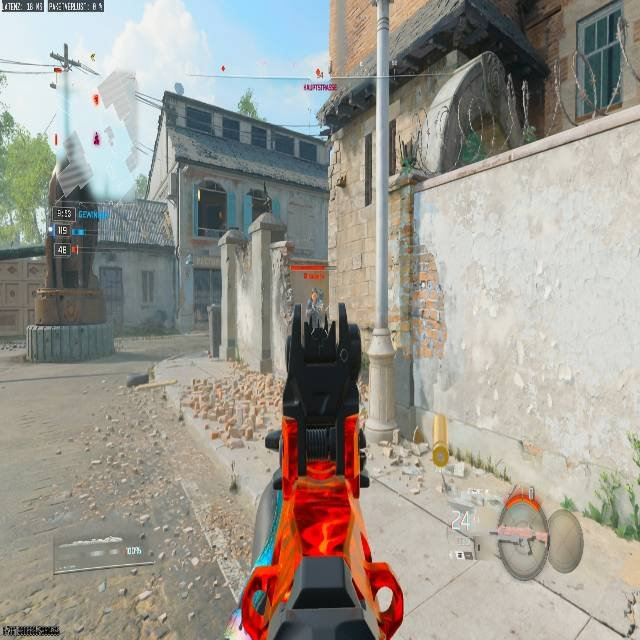player: (307, 282, 324, 322), (309, 287, 322, 309)
